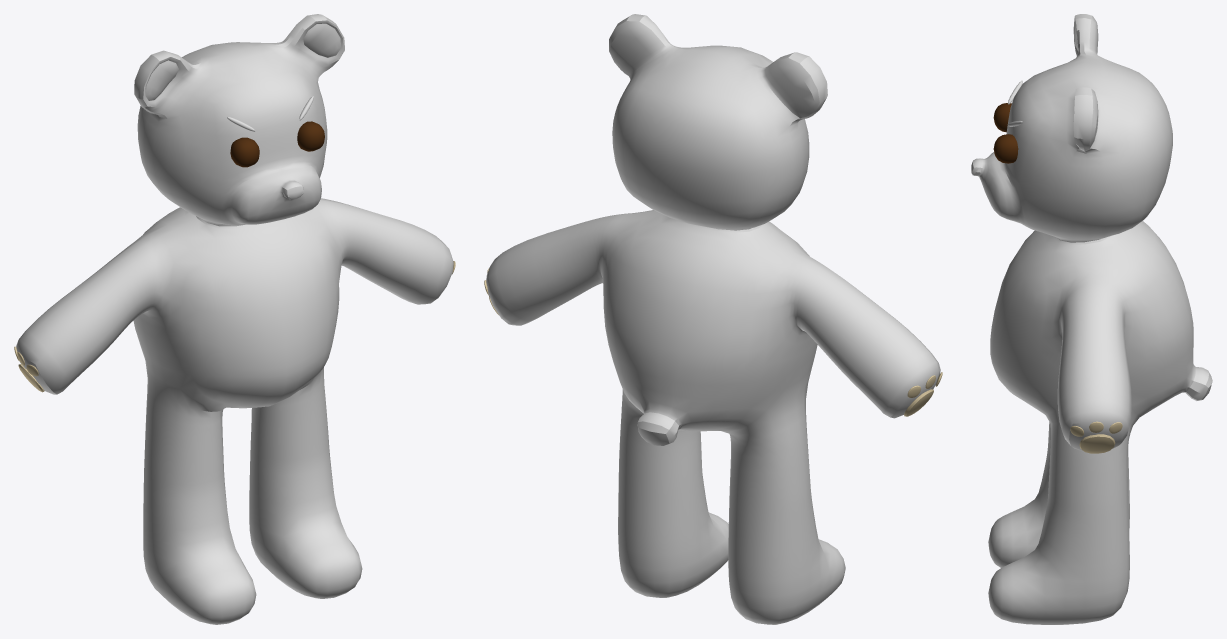
File: bear1 prac.fbx
3 renders of one model, left to right at view 1: azimuth 30°, elevation 25°; view 2: azimuth 150°, elevation 25°; view 3: azimuth 270°, elevation 25°, orthographic. The views are drawn at different scales.
Visible parts, largest first — view 1: 큐브; view 2: 큐브; view 3: 큐브.
Part boxes in pixels (x1=…): 큐브: x1=14, y1=14, x2=455, y2=624; 큐브: x1=484, y1=14, x2=942, y2=624; 큐브: x1=971, y1=14, x2=1212, y2=624.
Size of the model in its own units: 121 by 149 by 60.11.
Materials: 3 (1 with a texture image).
